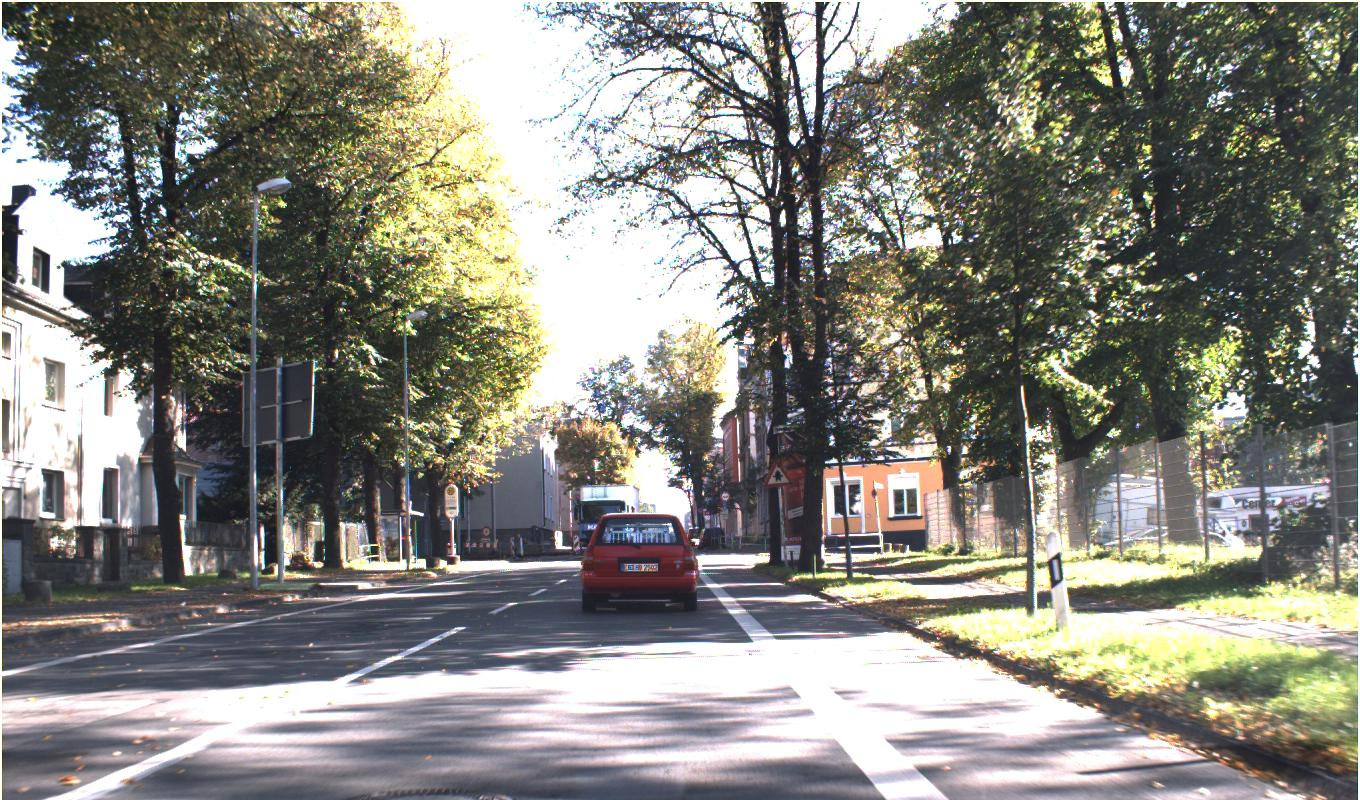danger: (762, 459, 792, 489)
